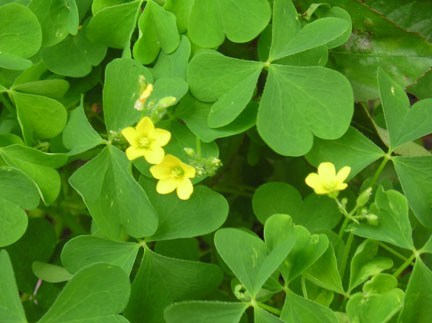oxalis: (26, 9, 432, 317)
